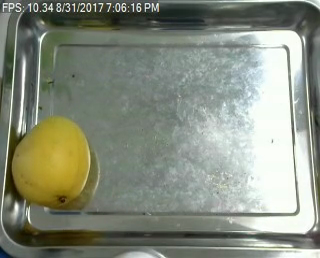Mango: (13, 117, 91, 204)
